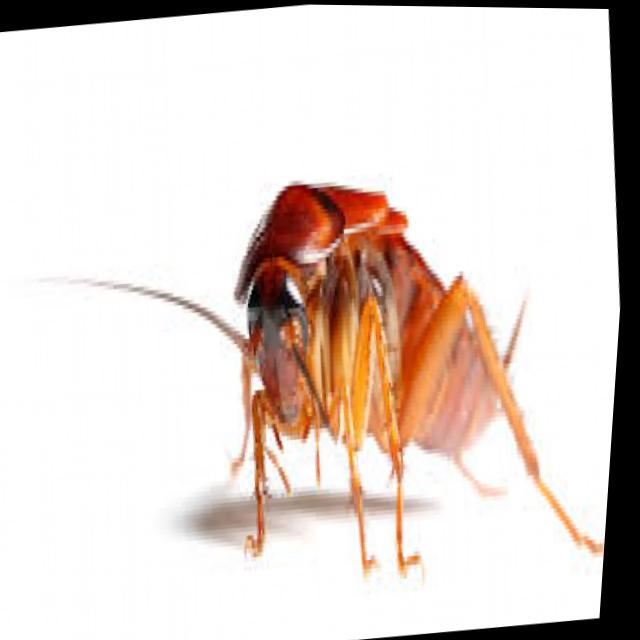Cockroach: (6, 128, 633, 630)
